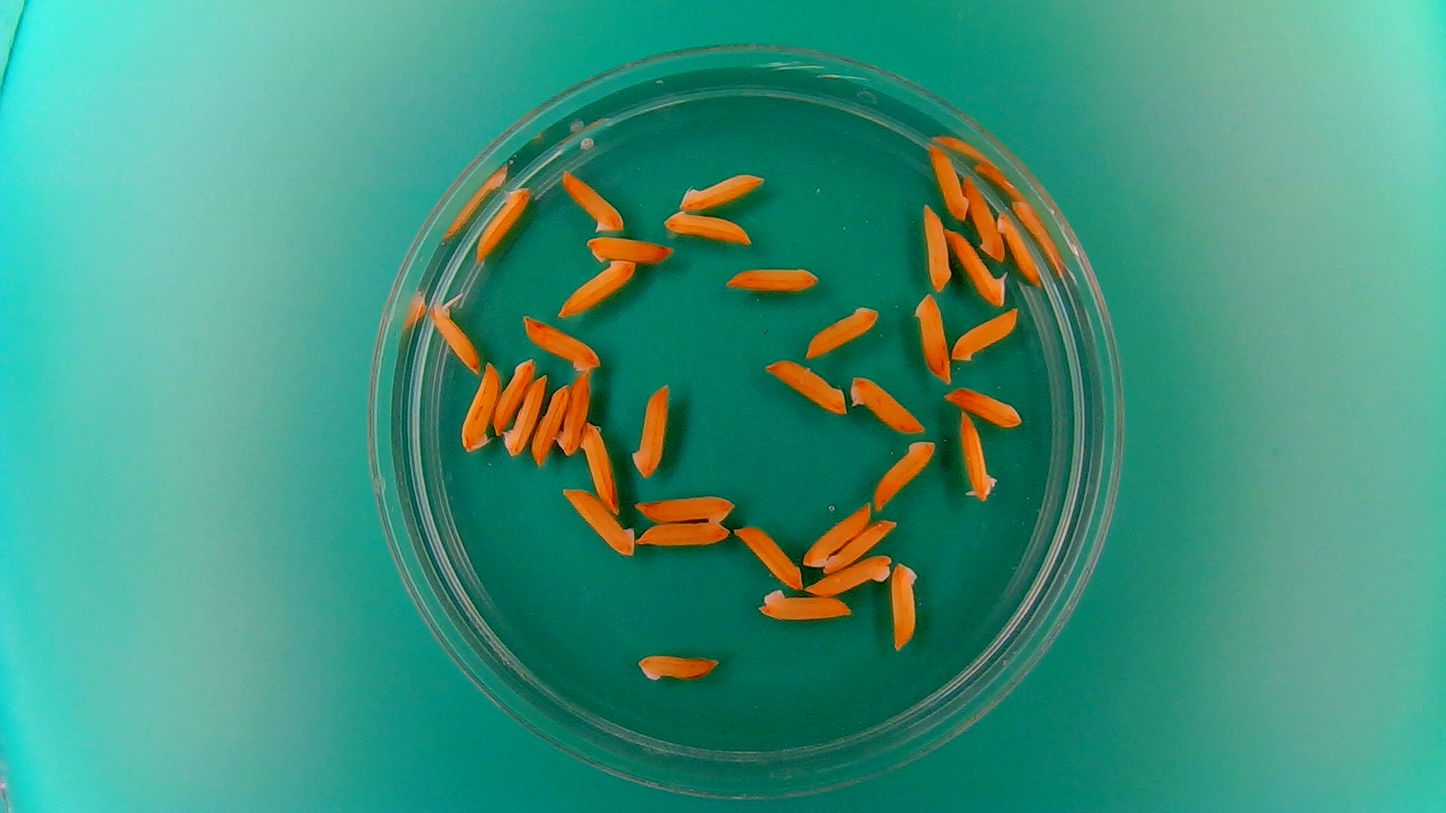no: (558, 484, 637, 561), (554, 256, 642, 319), (760, 355, 848, 416), (518, 312, 604, 373), (846, 371, 926, 435), (801, 500, 871, 569), (733, 521, 804, 589), (871, 438, 938, 510), (475, 181, 533, 262), (559, 166, 626, 234), (824, 515, 898, 576), (801, 302, 880, 359), (630, 379, 673, 480), (457, 360, 502, 455), (805, 551, 897, 597), (502, 372, 549, 458), (948, 306, 1021, 361), (677, 167, 765, 212), (633, 489, 737, 527), (755, 584, 853, 624), (581, 418, 620, 514), (962, 175, 1005, 262), (529, 379, 570, 468), (721, 260, 822, 296), (913, 292, 952, 385), (661, 208, 755, 246), (925, 144, 970, 223), (943, 385, 1025, 428), (995, 211, 1042, 286), (554, 369, 593, 458), (493, 356, 536, 436), (634, 647, 721, 684), (889, 556, 921, 653), (639, 517, 733, 550), (584, 232, 674, 265), (920, 201, 951, 292)
yes: (945, 227, 1010, 308), (428, 293, 480, 373), (956, 409, 998, 504)
